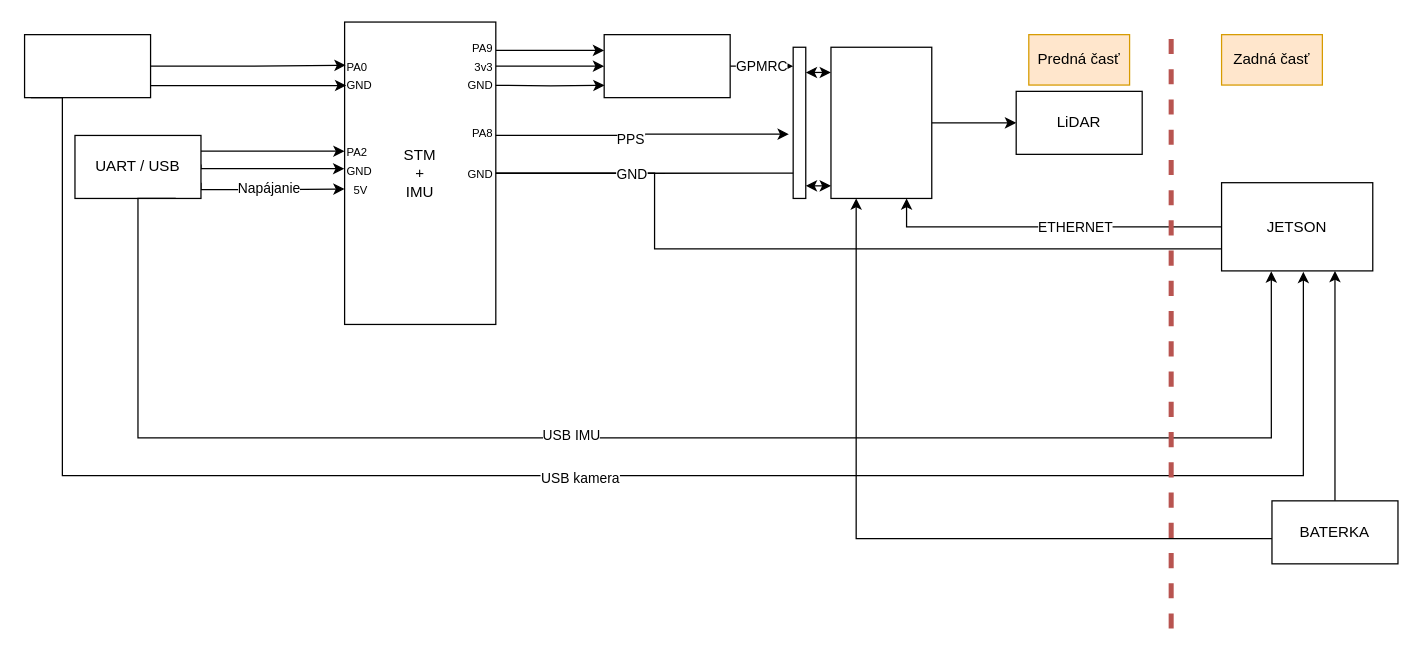
Image size: 1420x654. Some labels were removed from this diagram. The shapes that lost their labels are listed below. From the top down, each one's centre as x and y in pixels, then its label:
At (x=87, y=65): "KAMERA".
At (x=666, y=65): "TTL / RS232".
At (x=881, y=122): "COM LiDAR".
